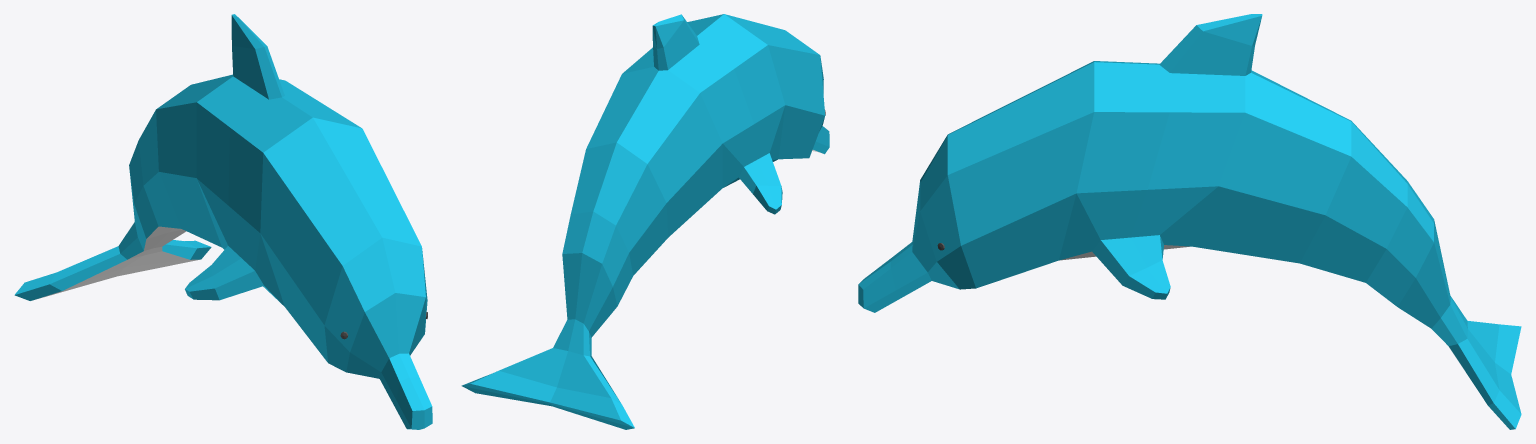
The model's file is Dolphin.glb.
3 views of the same model, side by side, from view 1: azimuth 30°, elevation 25°; view 2: azimuth 150°, elevation 25°; view 3: azimuth 270°, elevation 25° (orthographic). The views are drawn at different scales.
Parts seen in each view (by area): view 1: Dolphin_01_Cube.033; view 2: Dolphin_01_Cube.033; view 3: Dolphin_01_Cube.033.
Part boxes in pixels (bbox=[...]): Dolphin_01_Cube.033: bbox=[14, 14, 432, 429]; Dolphin_01_Cube.033: bbox=[461, 14, 829, 429]; Dolphin_01_Cube.033: bbox=[858, 14, 1521, 429].
Size of the model in its own units: 10.13 by 17.29 by 27.93.
